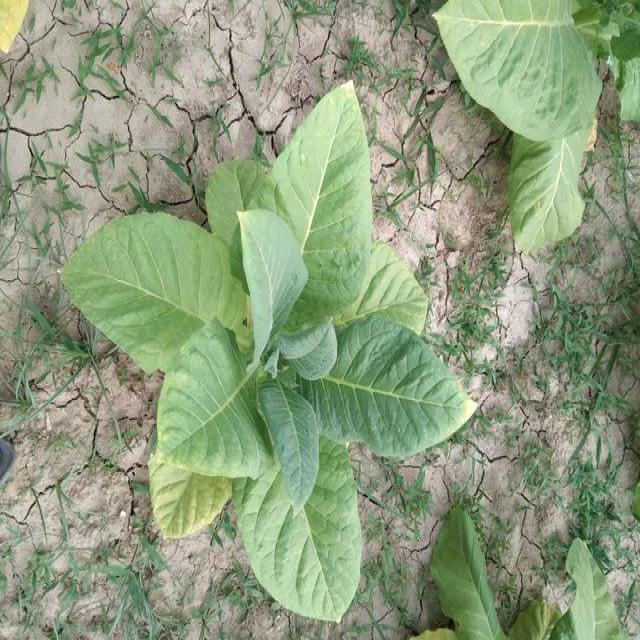crop: (51, 80, 480, 613), (443, 0, 640, 241), (425, 516, 640, 640)
